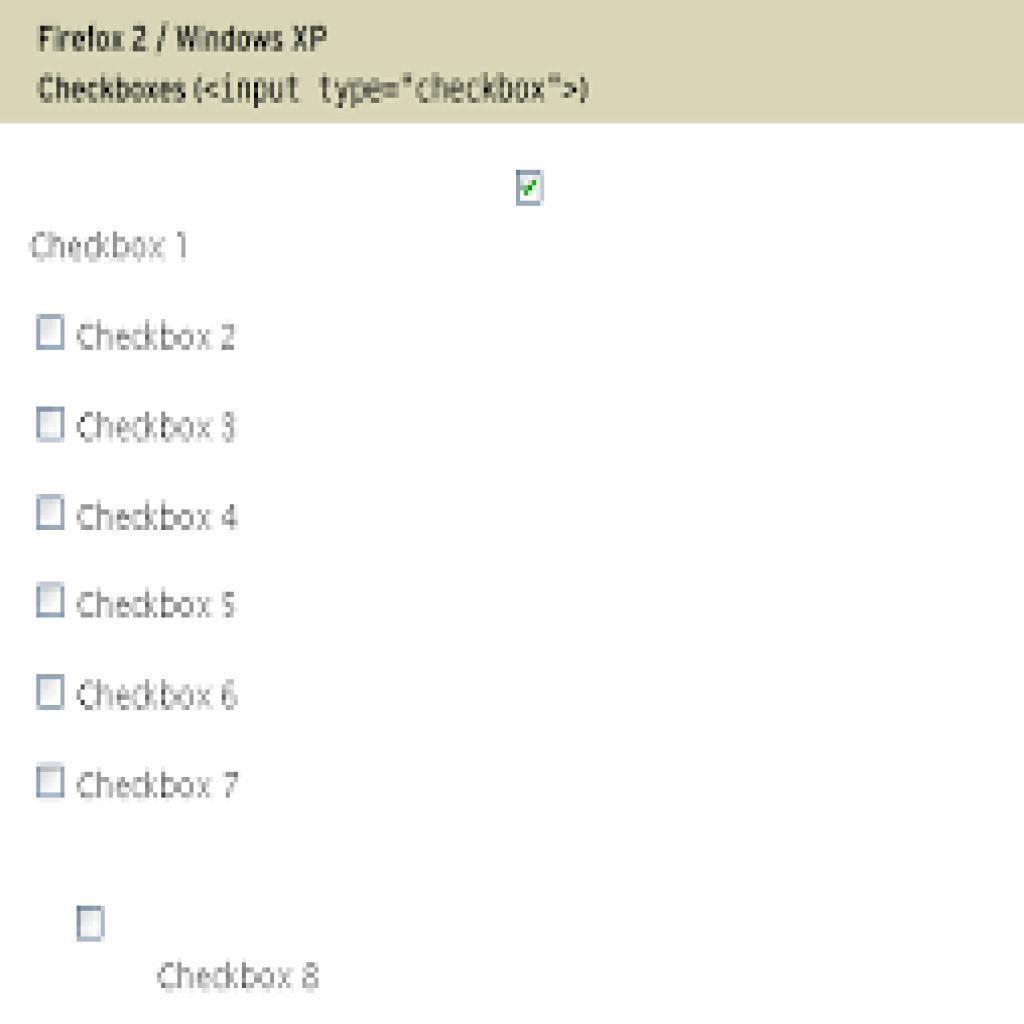checkbox: (34, 674, 68, 710), (35, 765, 68, 797), (34, 585, 64, 620), (516, 170, 544, 207), (36, 314, 65, 349), (34, 408, 64, 441), (36, 494, 65, 527), (76, 909, 104, 938)
label: (80, 672, 239, 722), (153, 962, 325, 1004), (75, 761, 239, 805), (73, 582, 243, 624), (24, 228, 197, 269), (75, 316, 242, 357), (75, 409, 237, 445), (79, 499, 243, 534)
